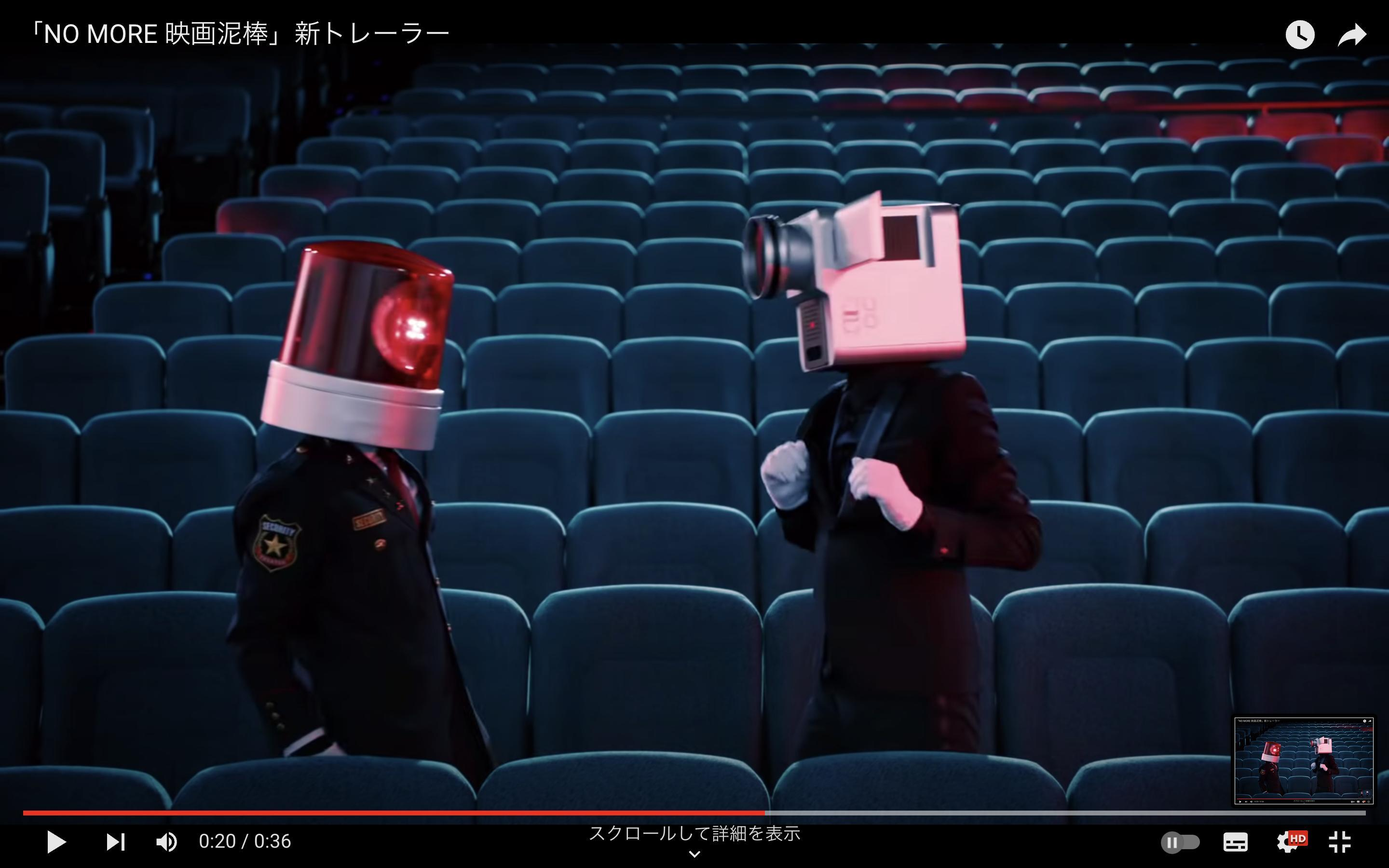no more kid: (725, 180, 983, 378)
